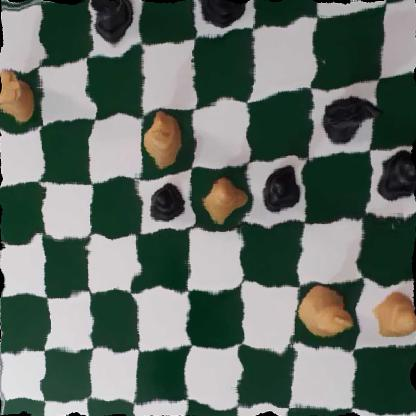black-king: (197, 0, 250, 33)
black-knight: (314, 88, 379, 149)
black-pawn: (371, 146, 416, 201), (257, 165, 303, 216), (148, 181, 187, 229)
black-rook: (89, 0, 137, 46)
white-bishop: (145, 107, 187, 169)
white-king: (294, 283, 356, 338)
white-pawn: (369, 285, 416, 340), (199, 175, 239, 218)
white-rook: (0, 66, 39, 125)
